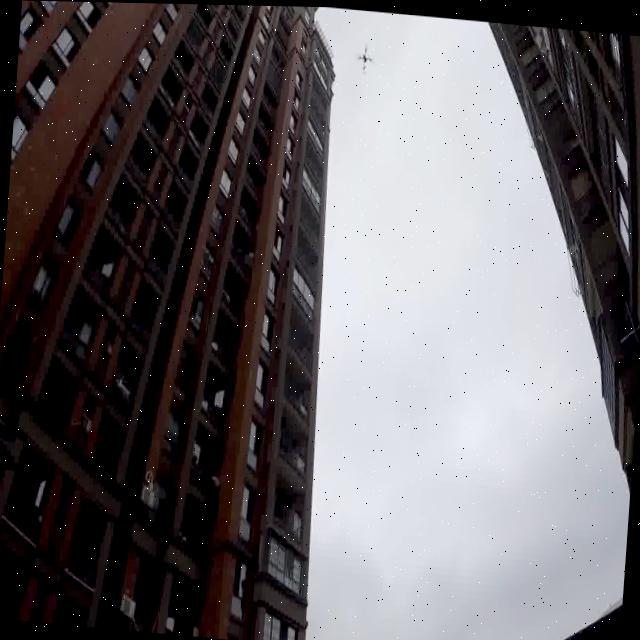drone: (346, 27, 382, 68)
